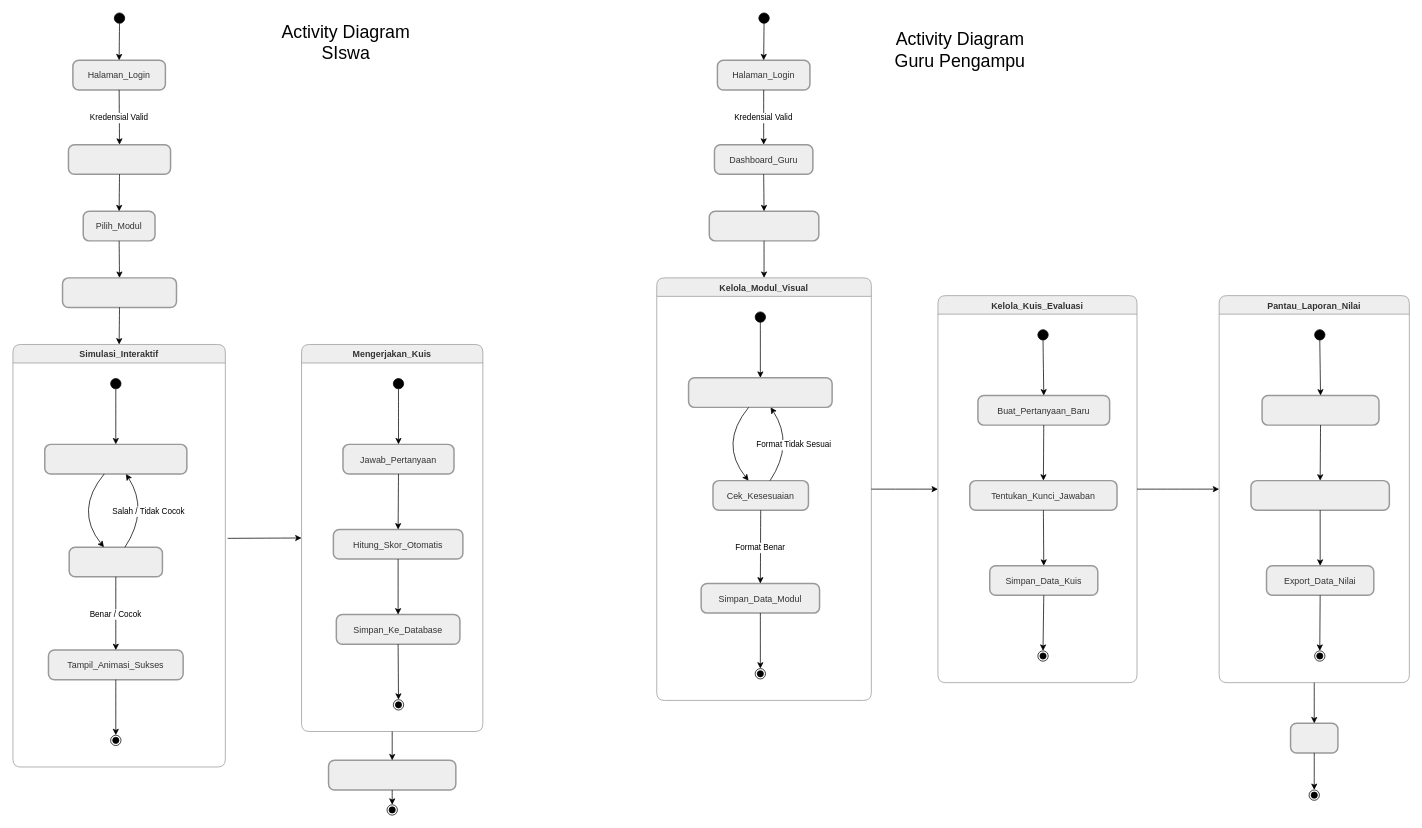
Some shapes in this 1422 by 828 pixel diagram are drawn without their labels. The shapes that lost their labels are listed below. From the top down, each one's centre as x and y in pixels, then its label:
the point at 119,159: Dashboard_Siswa
the point at 763,225: Pilih_Menu_Utama
the point at 119,292: Baca_Materi_Visual
the point at 759,392: Upload_Materi_dan_Aset
the point at 1320,410: Buka_Data_Evaluasi
the point at 115,458: Lakukan_Drag_and_Drop
the point at 1320,495: Filter_Berdasarkan_Sesi
the point at 115,561: Validasi_Sistem
the point at 1313,737: Logout
the point at 391,774: Tampilkan_Hasil_Nilai
